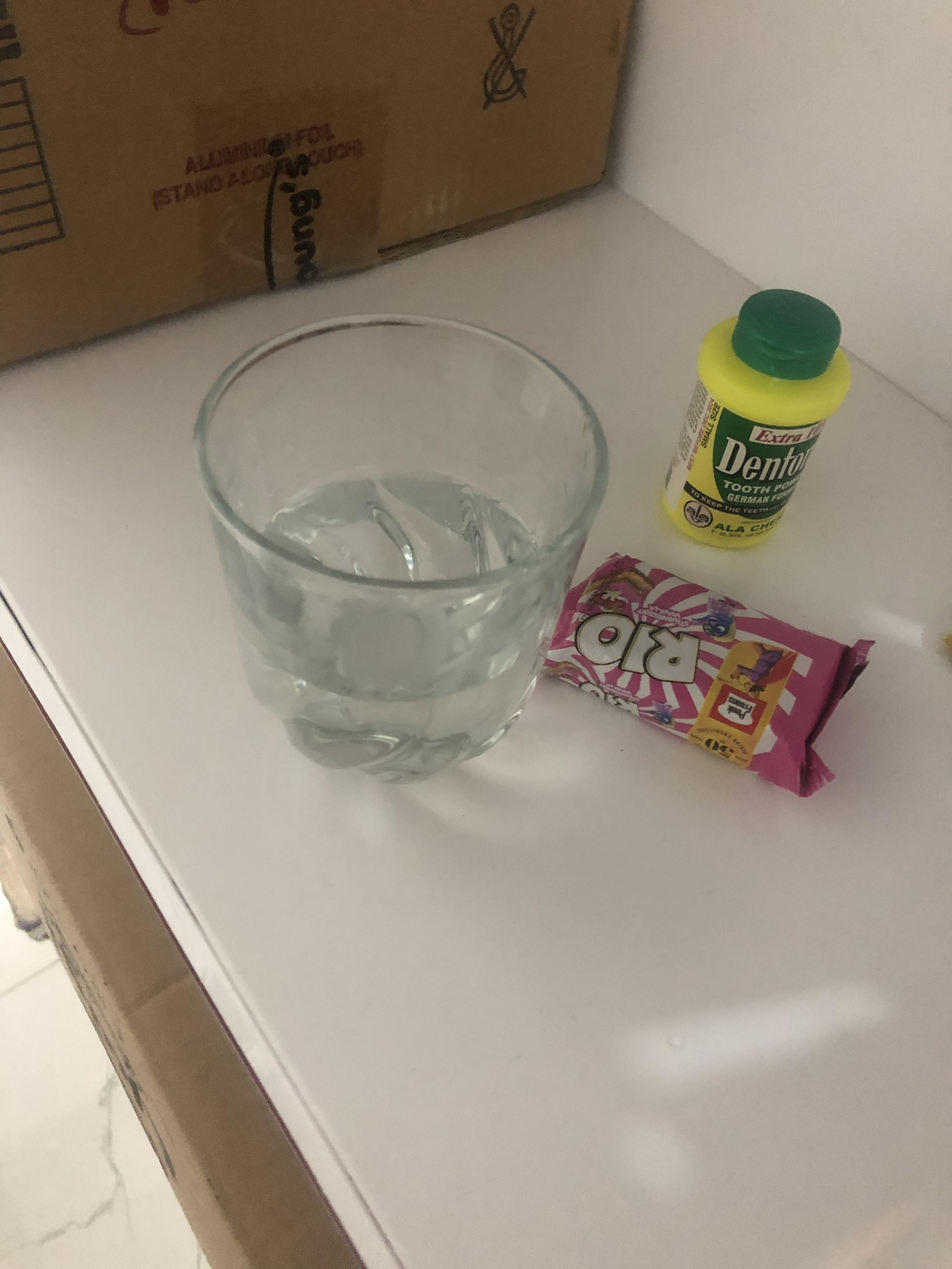glass-normal: (184, 309, 621, 788)
